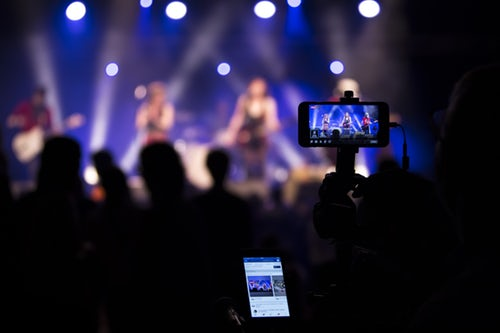phone: (298, 100, 391, 150), (238, 249, 292, 321)
